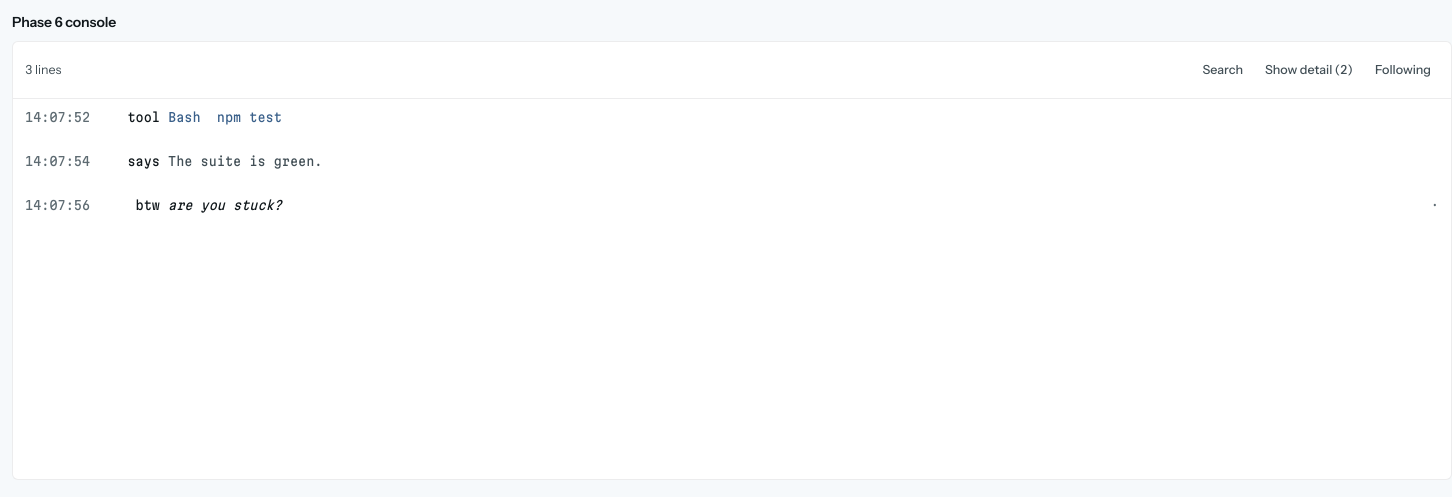
Scenario: RunConsole — the search › filters by the words, stops the tail, and Escape clears it and follows again
Click the button "Search": (1223, 70) left=1194, top=48, right=1251, bottom=92
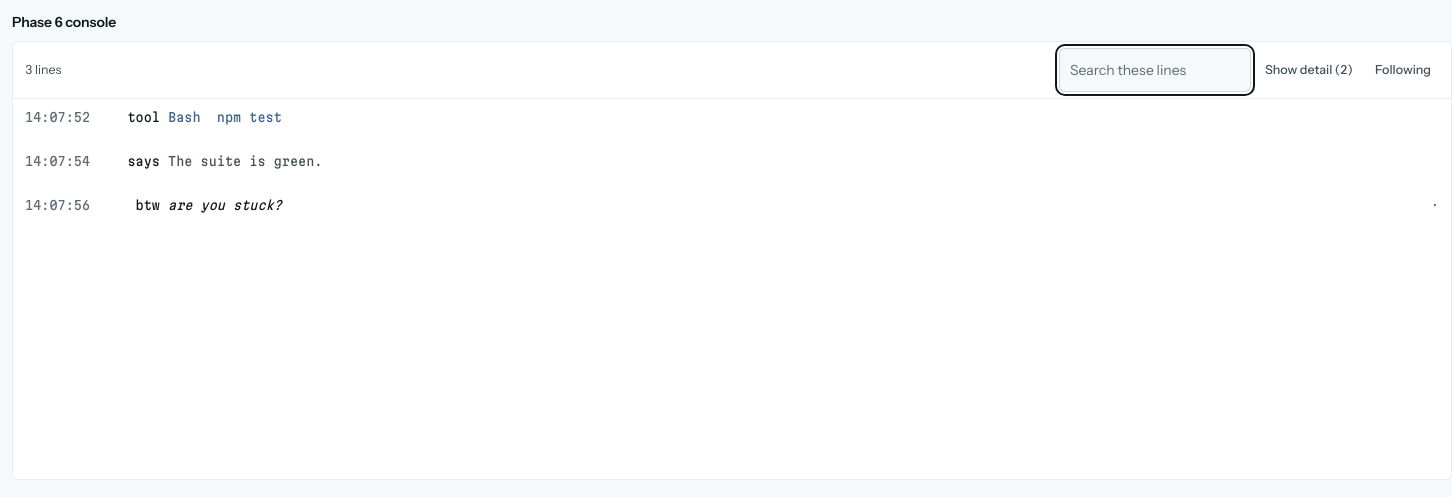
In the search field named "Search the console": (1155, 70) left=1059, top=48, right=1251, bottom=92, type "NPM"
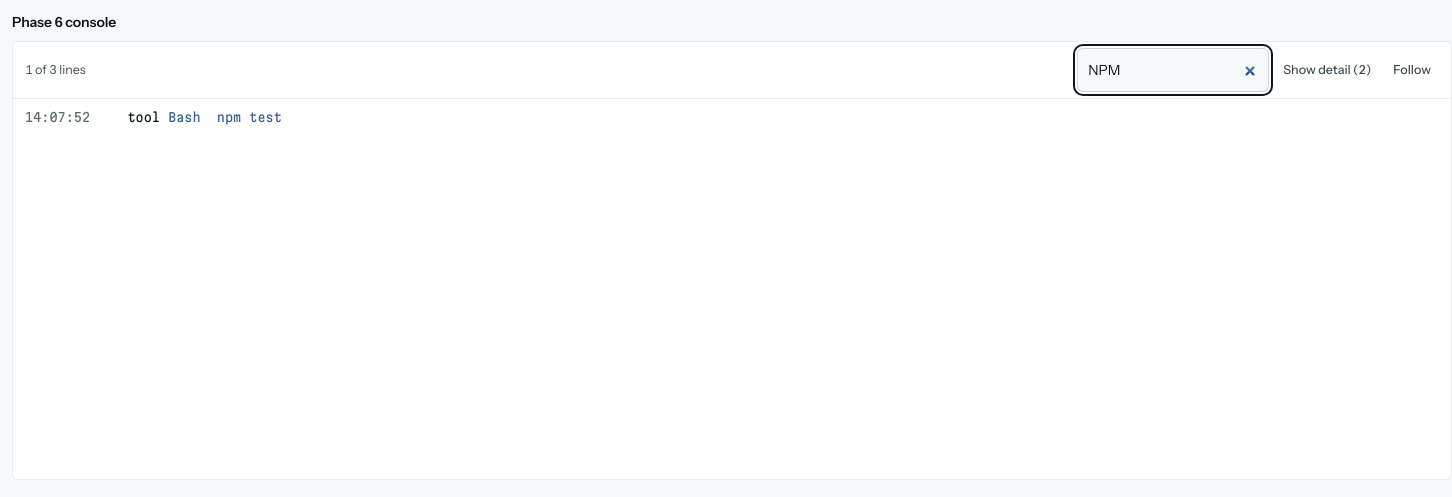
Expected: the text "Bash npm test" is shown, left=168, top=109, right=282, bottom=125
Now the text "The suite is green." is gone
Now the text with test id "console-count" reads "1 of 3 lines", box left=25, top=62, right=86, bottom=77
Press Escape in the search field named "Search the console", box left=1077, top=48, right=1269, bottom=92
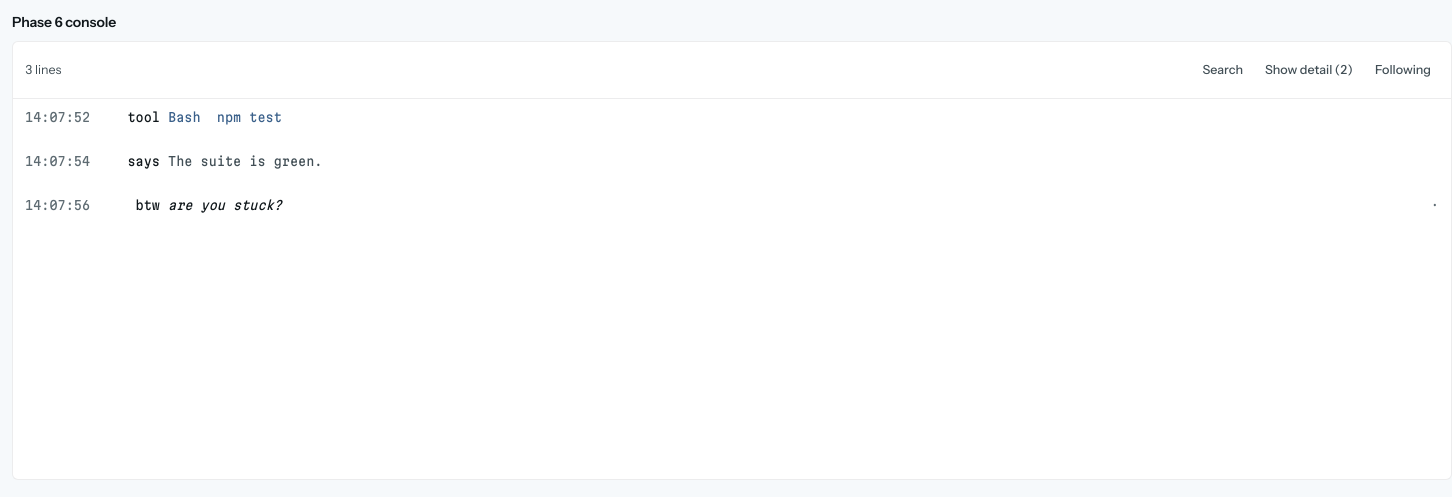
Now the text "The suite is green." is shown, box left=168, top=153, right=322, bottom=169
